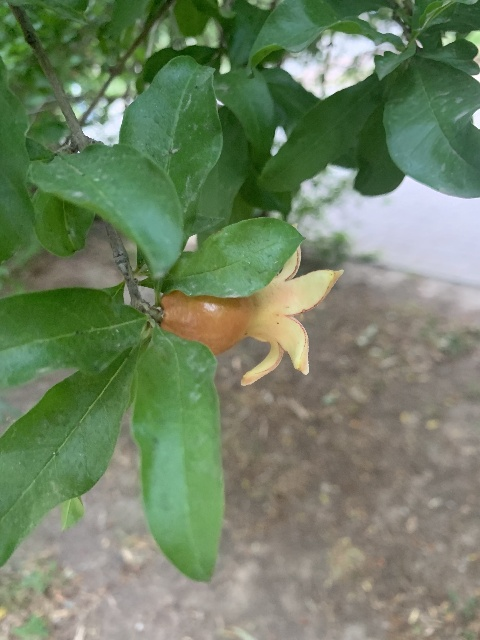early-fruit: (159, 221, 343, 386)
